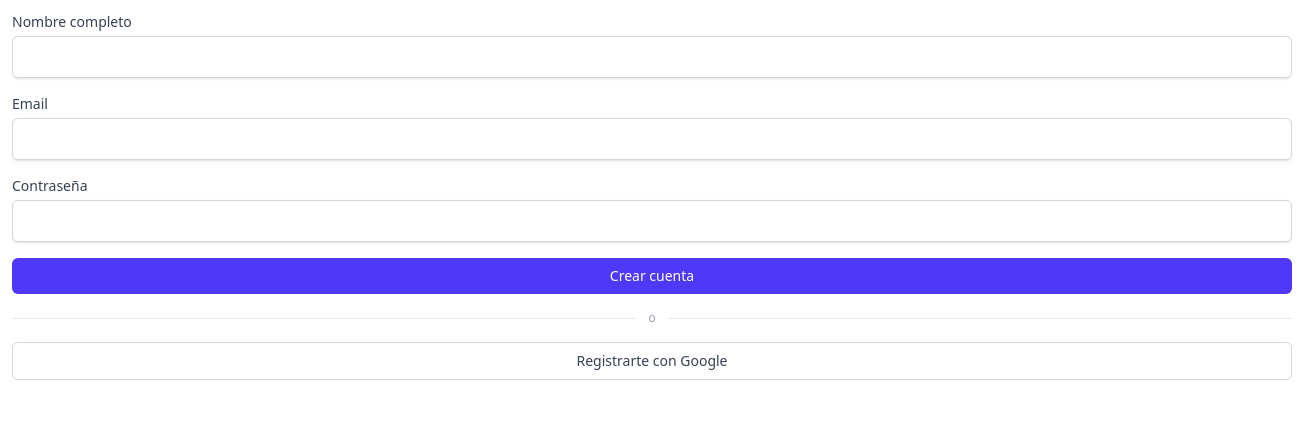
Test: RegisterForm › exige una contraseña de al menos 8 caracteres
Type "Ana Pérez" into the field labelled "Nombre completo".
click(652, 57); type("Ana Pérez")  # box [12,36,1292,78]
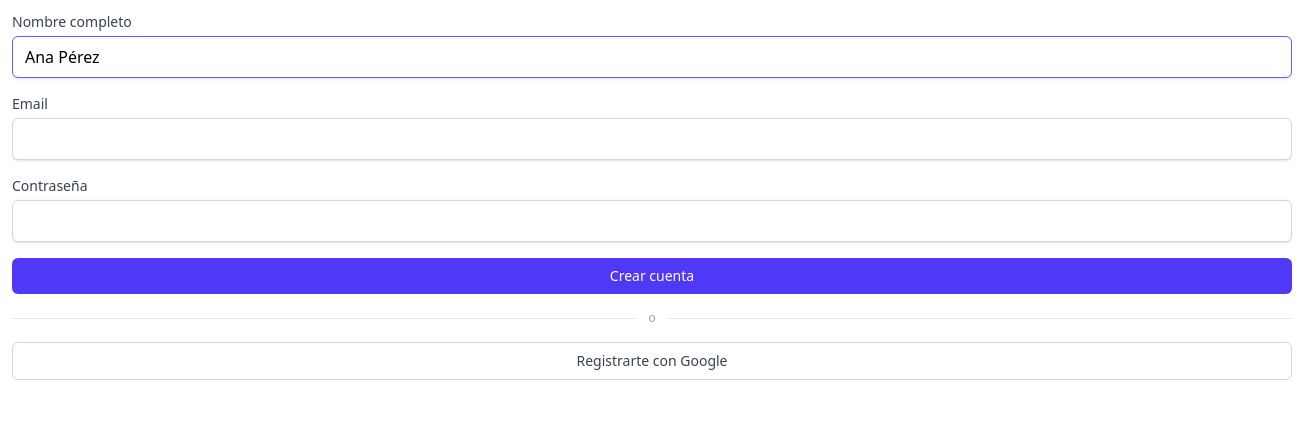
Type "ana@example.com" into the field labelled "Email".
click(652, 139); type("ana@example.com")  # box [12,118,1292,160]
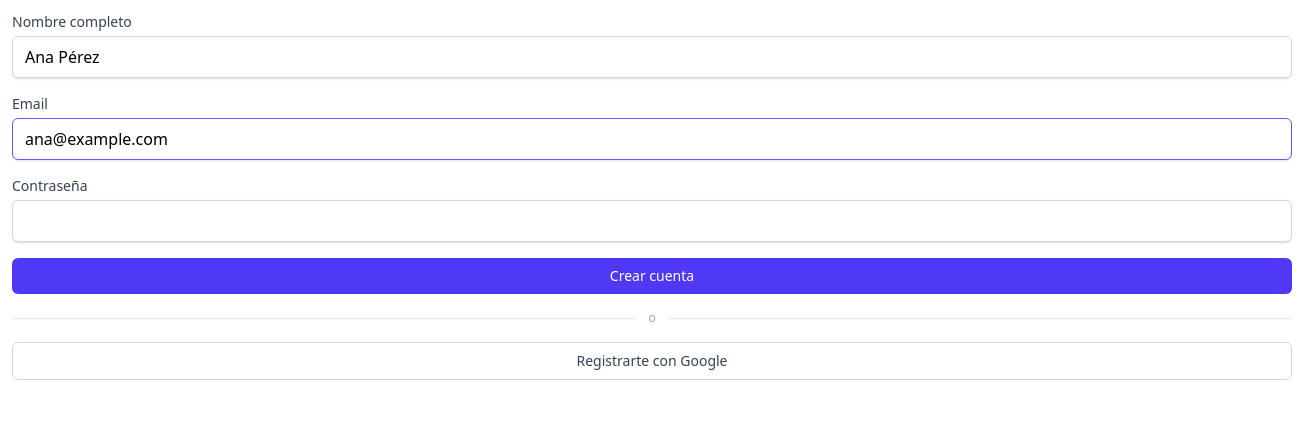
Type "1234567" into the password field labelled "Contraseña".
click(652, 221); type("1234567")  # box [12,200,1292,242]
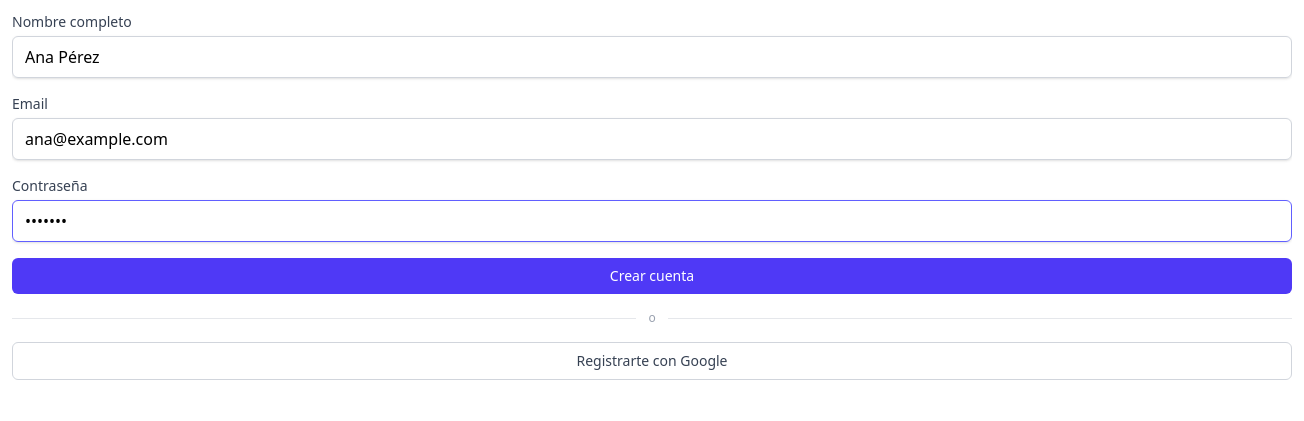
Click the button "Crear cuenta".
click(652, 276)  # box [12,258,1292,294]
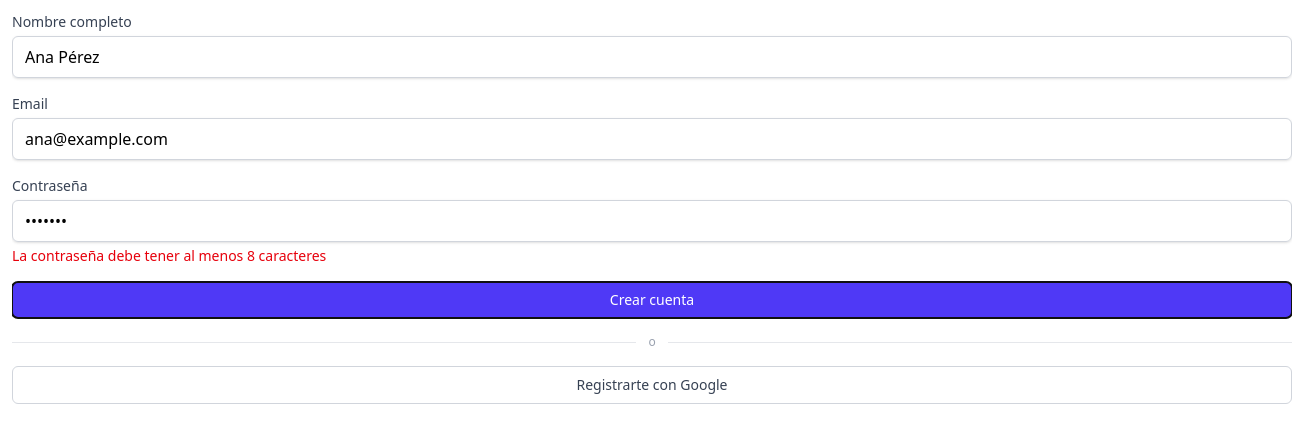
Now the text "La contraseña debe tener al menos 8 caracteres" is shown, box [12,246,326,265]
